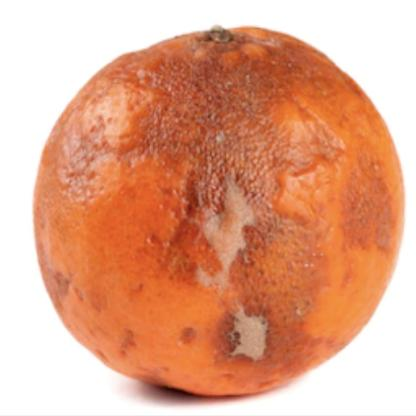rotten: (34, 27, 407, 398)
